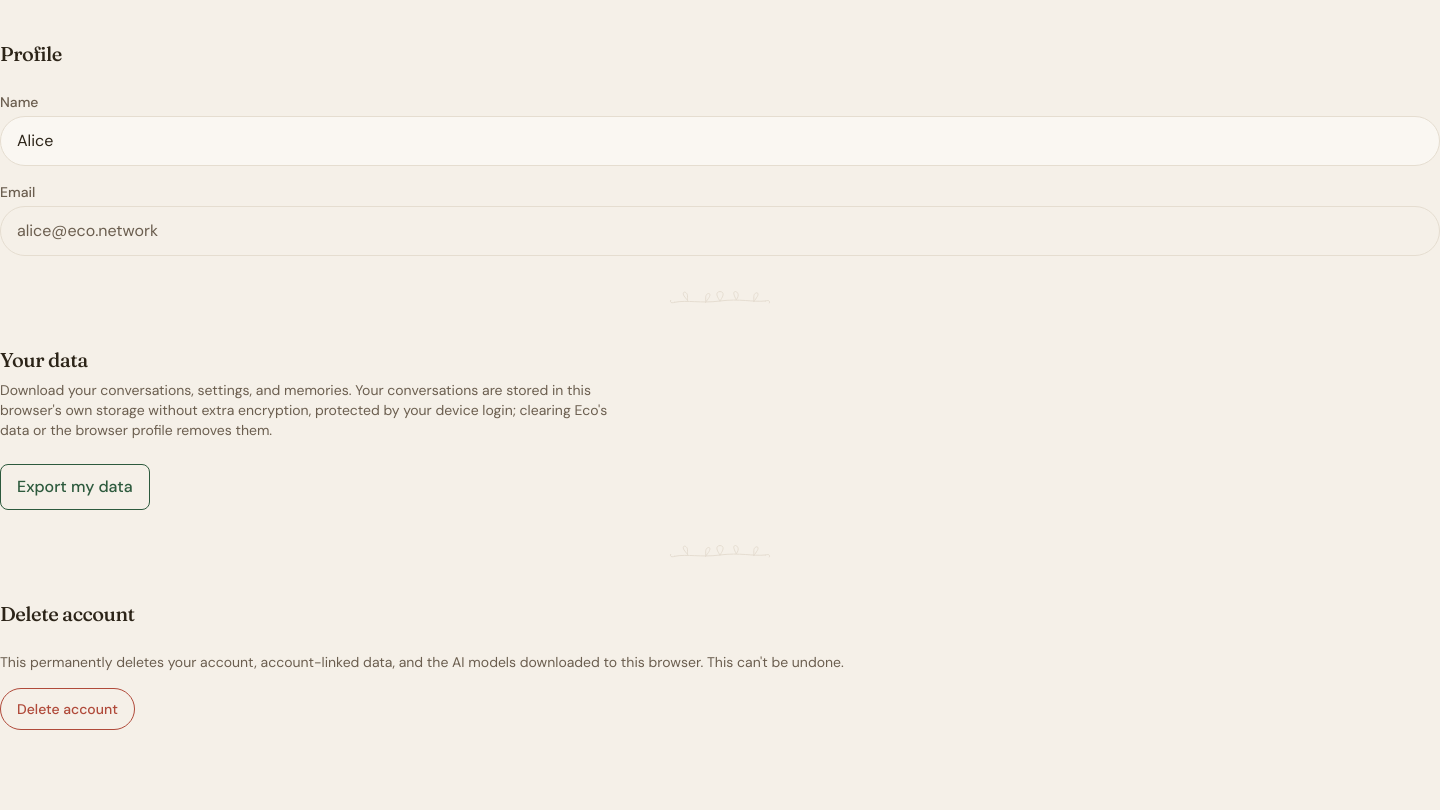
AccountTab › shows an inline error when account deletion fails
Click the button "Delete account" at (67, 709), box [0, 688, 135, 730]
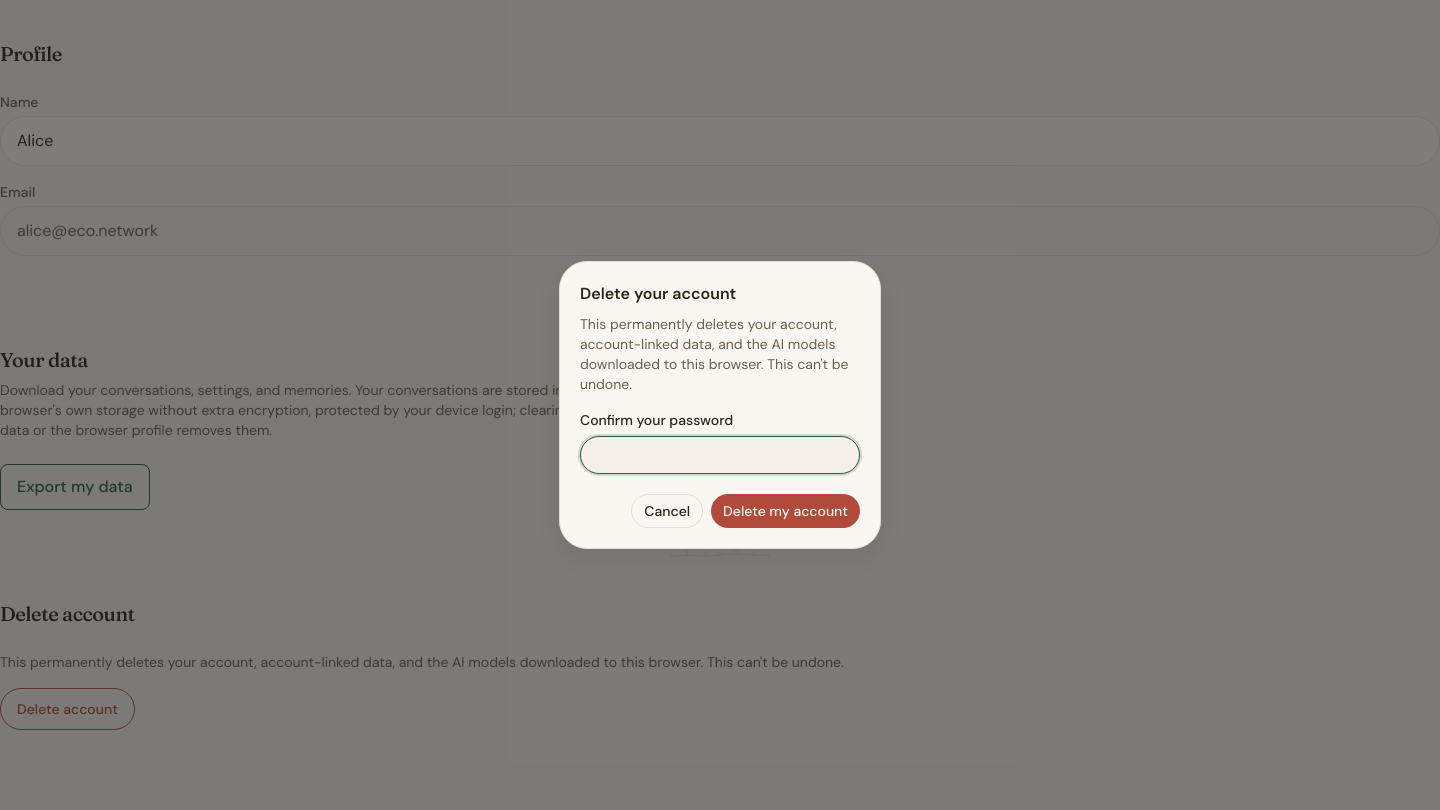
Click the button "Delete my account" at (786, 511), box [711, 494, 860, 528]
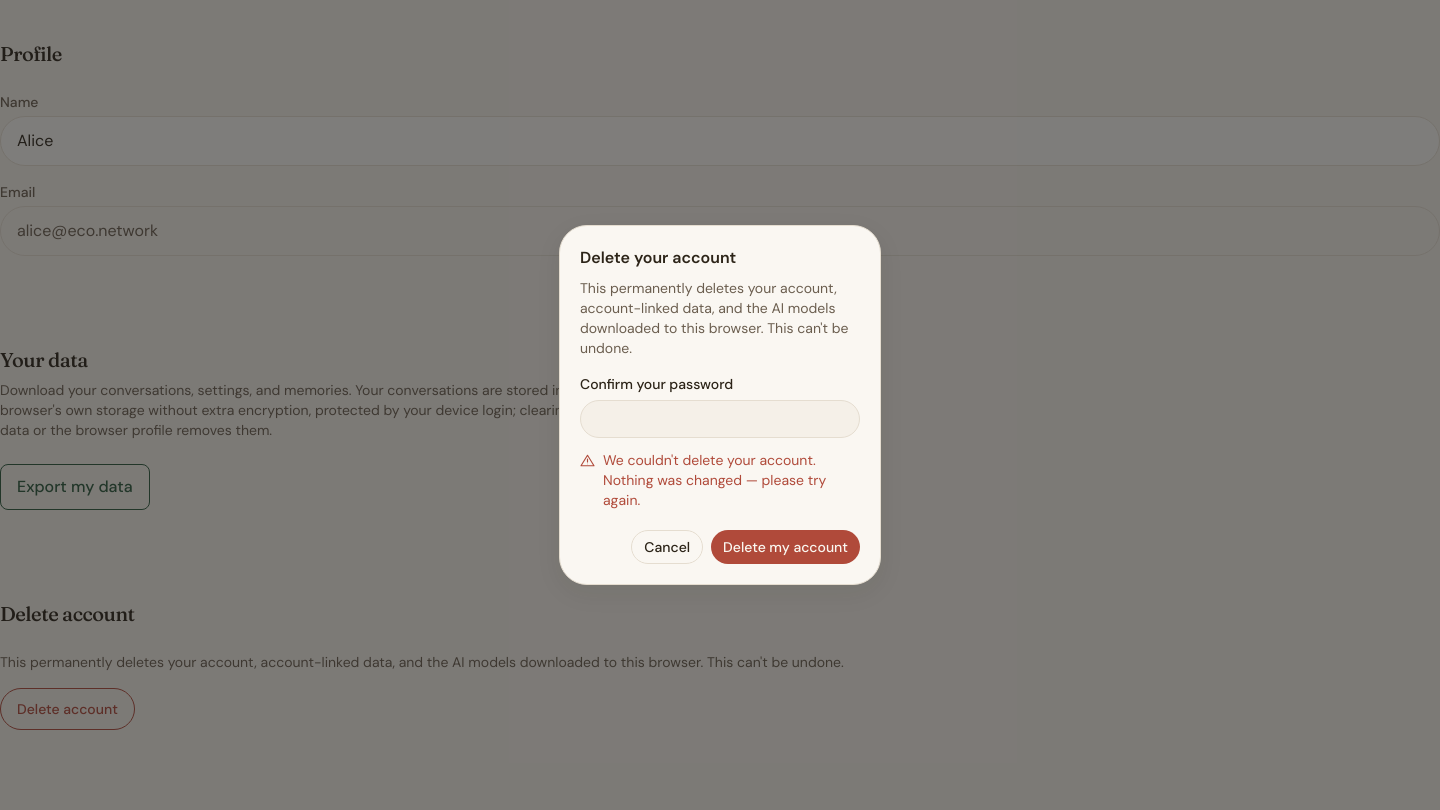
Expected: the text "We couldn't delete your account. Nothing was changed — please try again." is shown, [603, 450, 860, 510]
